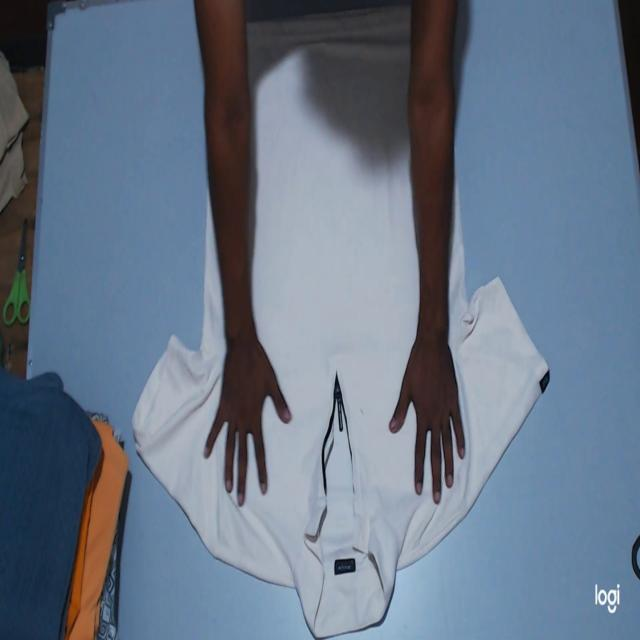new-garment: (132, 0, 548, 637)
